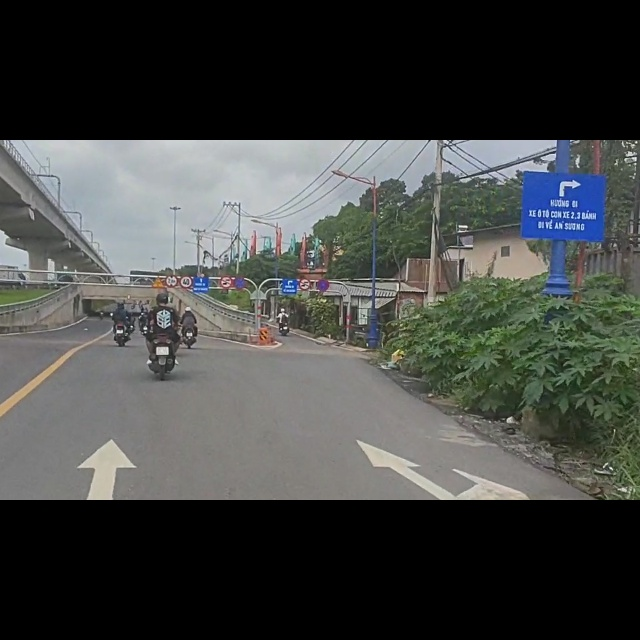bien_nguy_hiem: (165, 238, 179, 263), (179, 241, 193, 265), (233, 243, 247, 267), (151, 242, 165, 264), (219, 242, 233, 263), (317, 248, 330, 270), (299, 245, 311, 267)
